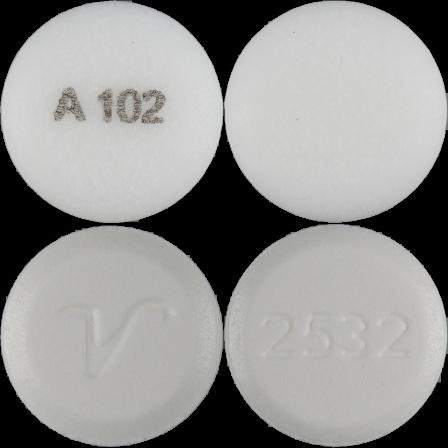33261-627: (0, 0, 224, 224)
